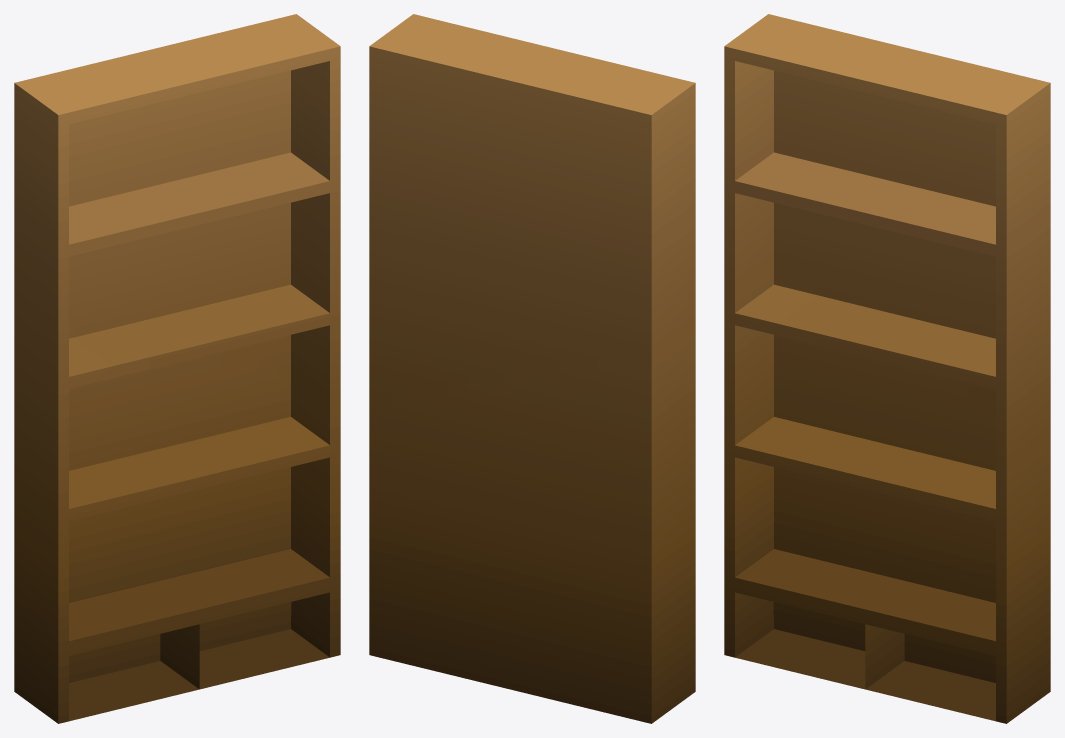
The model's file is Shelf.fbx.
The picture shows the model from 3 angles, left to right: view 1: azimuth 30°, elevation 25°; view 2: azimuth 150°, elevation 25°; view 3: azimuth 330°, elevation 25°; orthographic projection.
Visible parts, largest first — view 1: Shelf; view 2: Shelf; view 3: Shelf.
Part boxes in pixels (x1,y1,x2,y2): Shelf: (14,14,340,723); Shelf: (369,14,695,723); Shelf: (724,14,1050,723).
Size of the model in its own units: 369 by 760 by 100.
